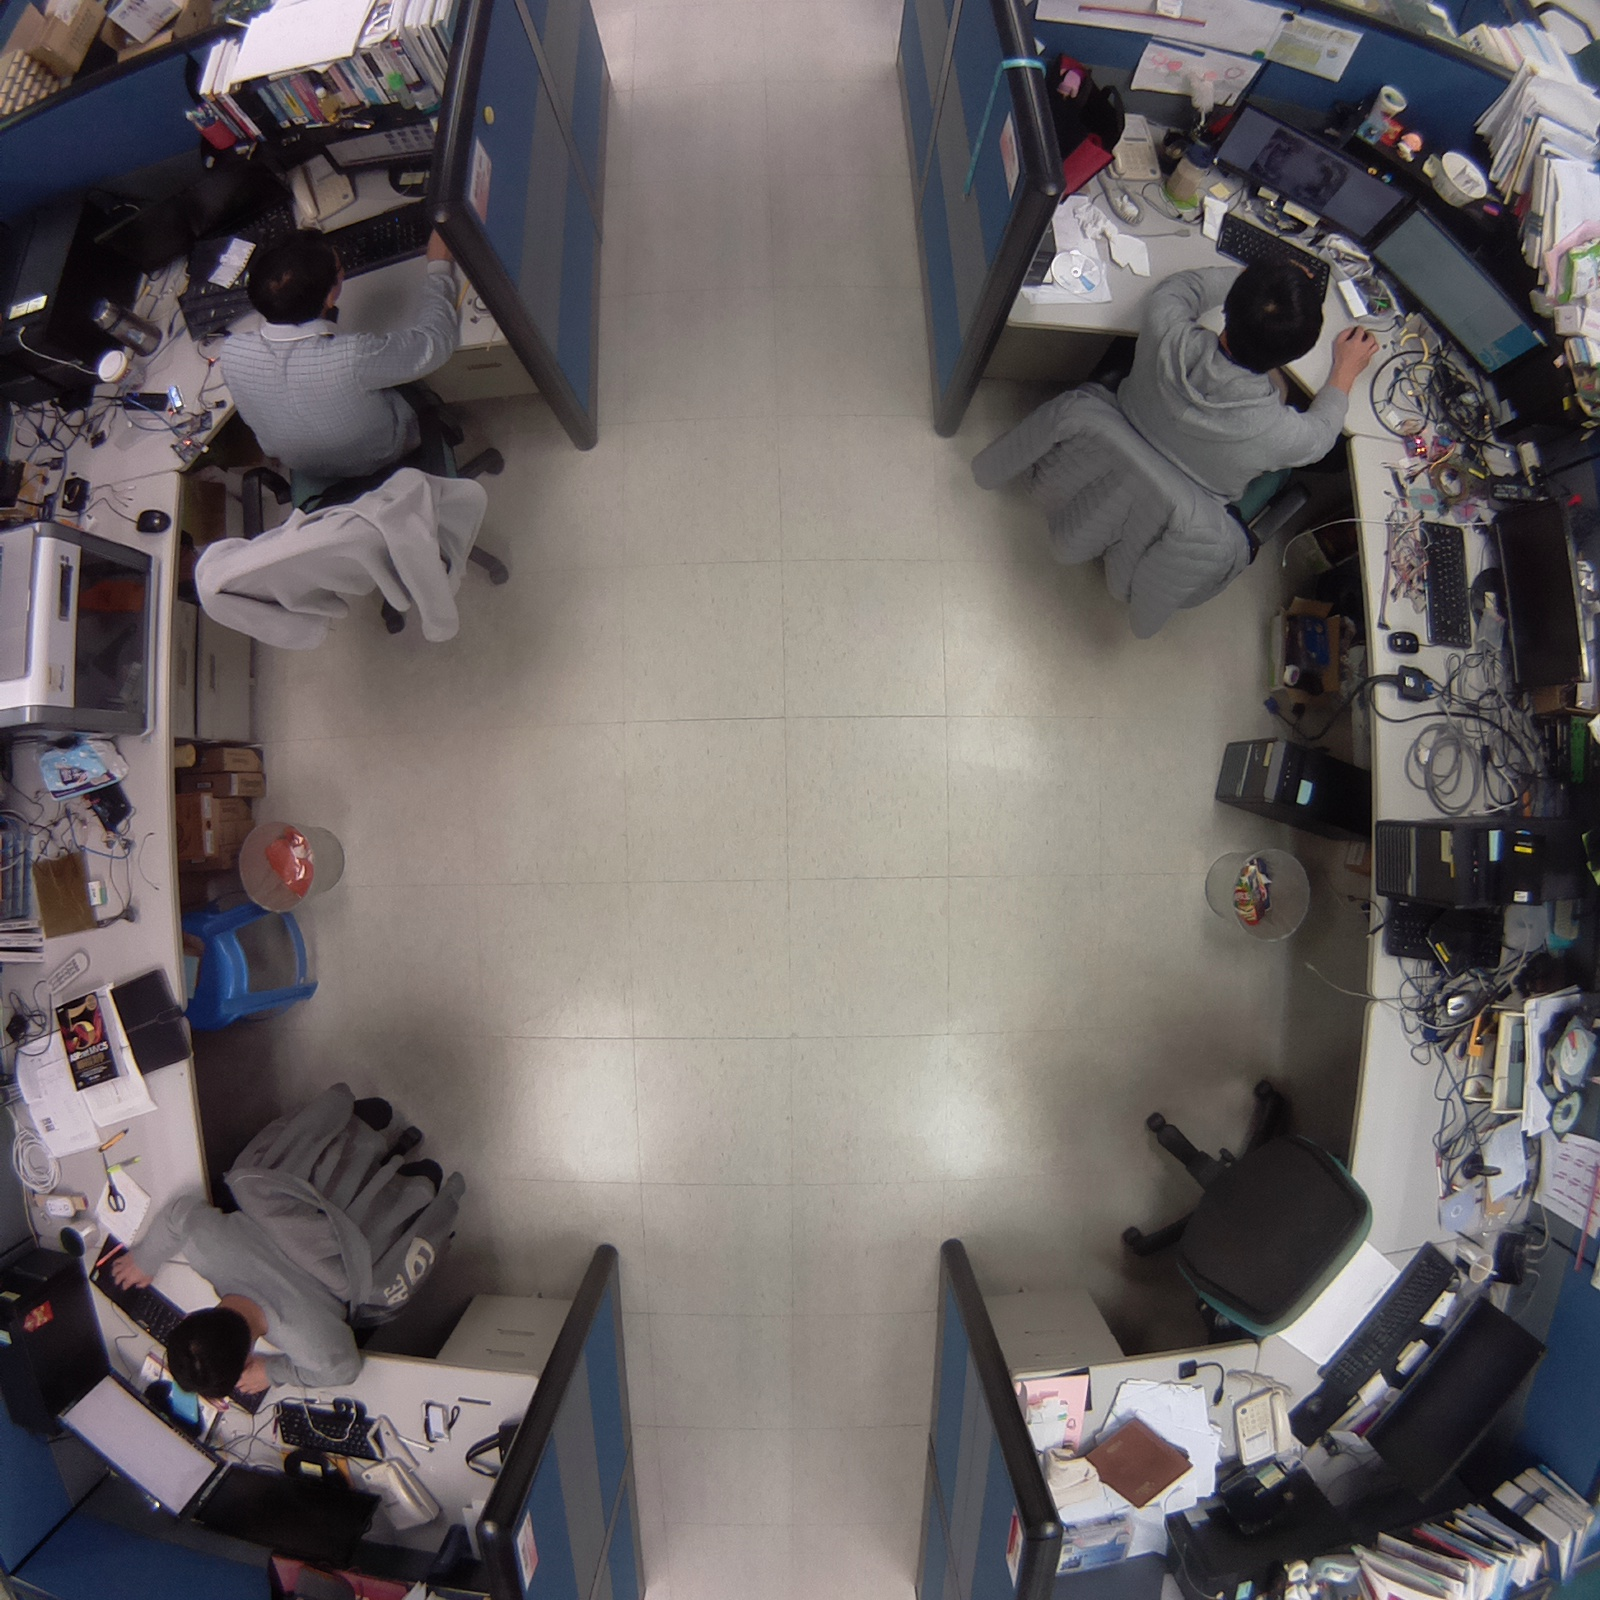chair: (1092, 1062, 1396, 1368)
sitting: (1102, 237, 1396, 525), (207, 212, 473, 498), (105, 1174, 391, 1415)
